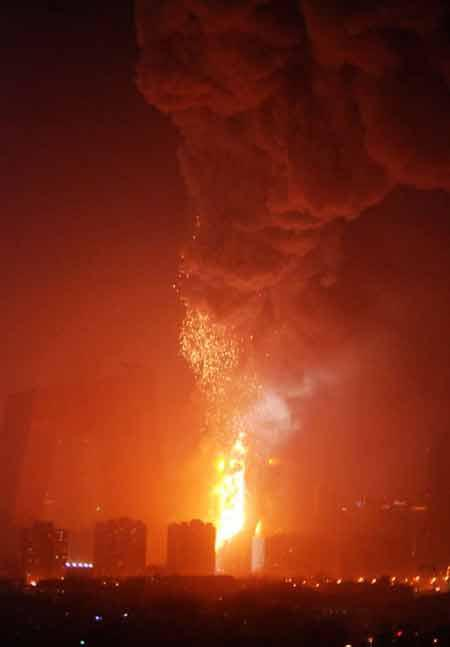fire: (207, 424, 259, 540)
